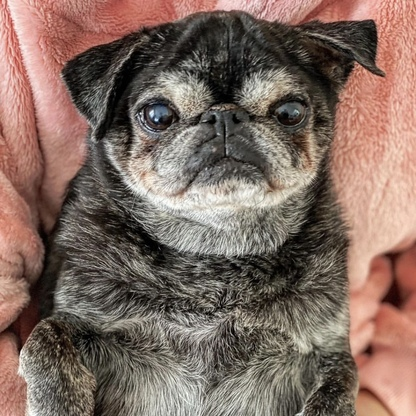Pug: (10, 4, 393, 416)
